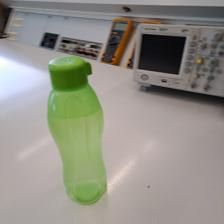bottle: (43, 54, 109, 204)
